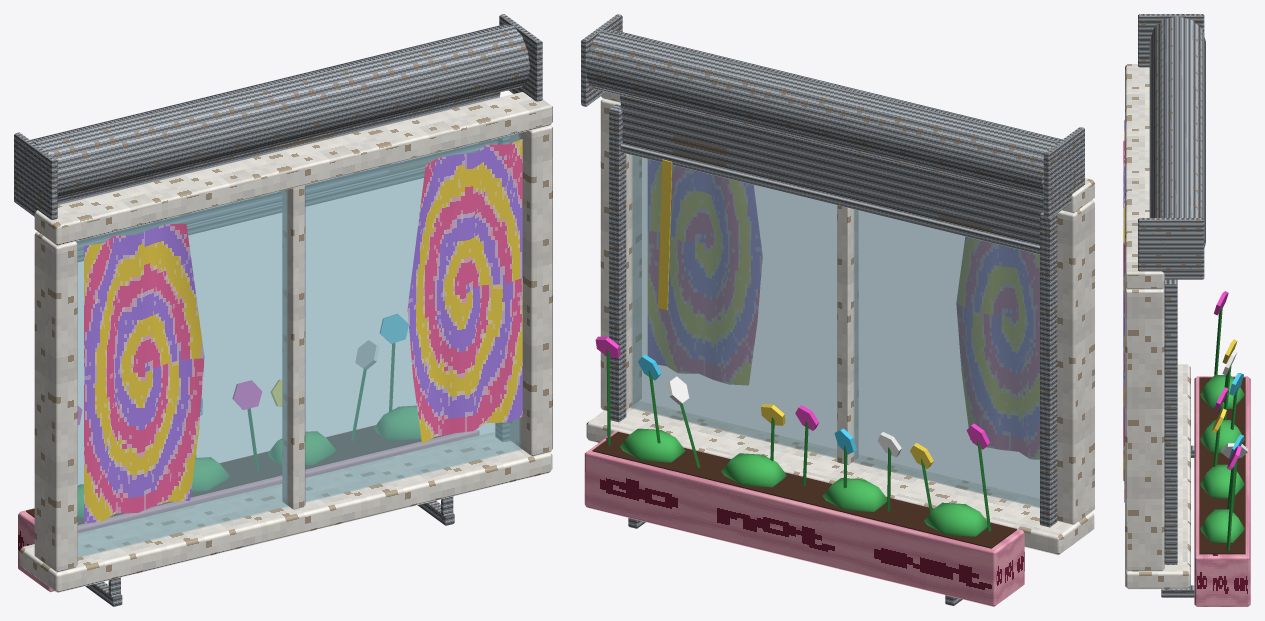
The model's file is s_shutter.glb.
3 renders of one model, left to right at view 1: azimuth 30°, elevation 25°; view 2: azimuth 150°, elevation 25°; view 3: azimuth 270°, elevation 25°, orthographic. The views are drawn at different scales.
Parts seen in each view (by area): view 1: s_shutter_mesh; view 2: s_shutter_mesh; view 3: s_shutter_mesh.
Boxes of the visible parts, x1,y1,x2,y2 form: s_shutter_mesh: [14, 14, 552, 606]; s_shutter_mesh: [581, 14, 1094, 606]; s_shutter_mesh: [1123, 14, 1250, 606].
Bounding box in the file's own units: 1.5 × 1.37 × 0.3845.
Materials: 4 (3 with a texture image).
